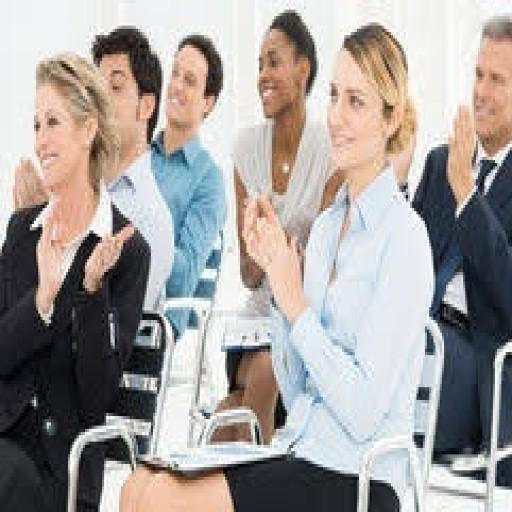clapping: (117, 19, 435, 509), (0, 48, 151, 509), (410, 13, 510, 486)
